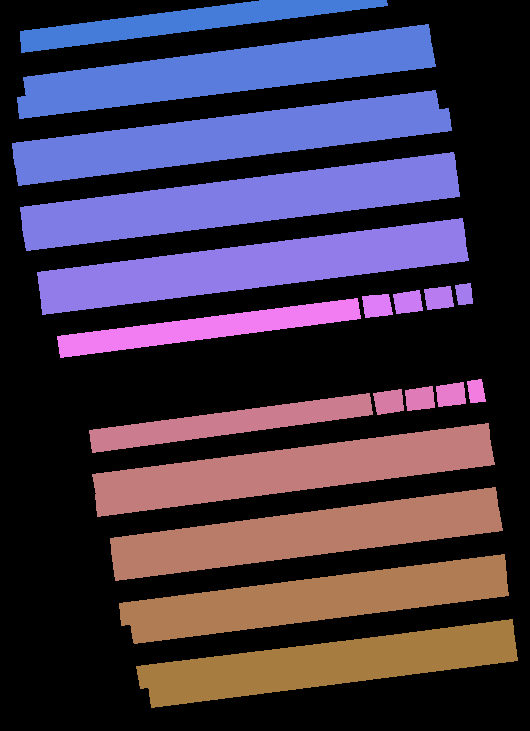parkingspot: (20, 152, 456, 231), (22, 172, 459, 250), (15, 108, 451, 185), (37, 218, 465, 294), (40, 238, 468, 314), (12, 90, 439, 164), (17, 44, 435, 118), (23, 24, 431, 98), (95, 443, 494, 516), (92, 423, 490, 495), (110, 487, 498, 560), (112, 508, 502, 580), (119, 554, 506, 625), (130, 573, 508, 643), (136, 619, 514, 688), (148, 638, 517, 707), (20, 0, 387, 52), (57, 298, 360, 357), (89, 393, 372, 452), (373, 389, 403, 414), (436, 382, 465, 406), (405, 386, 434, 410), (362, 294, 392, 317), (424, 286, 453, 309), (393, 290, 422, 313), (467, 379, 485, 402), (455, 283, 472, 304)
